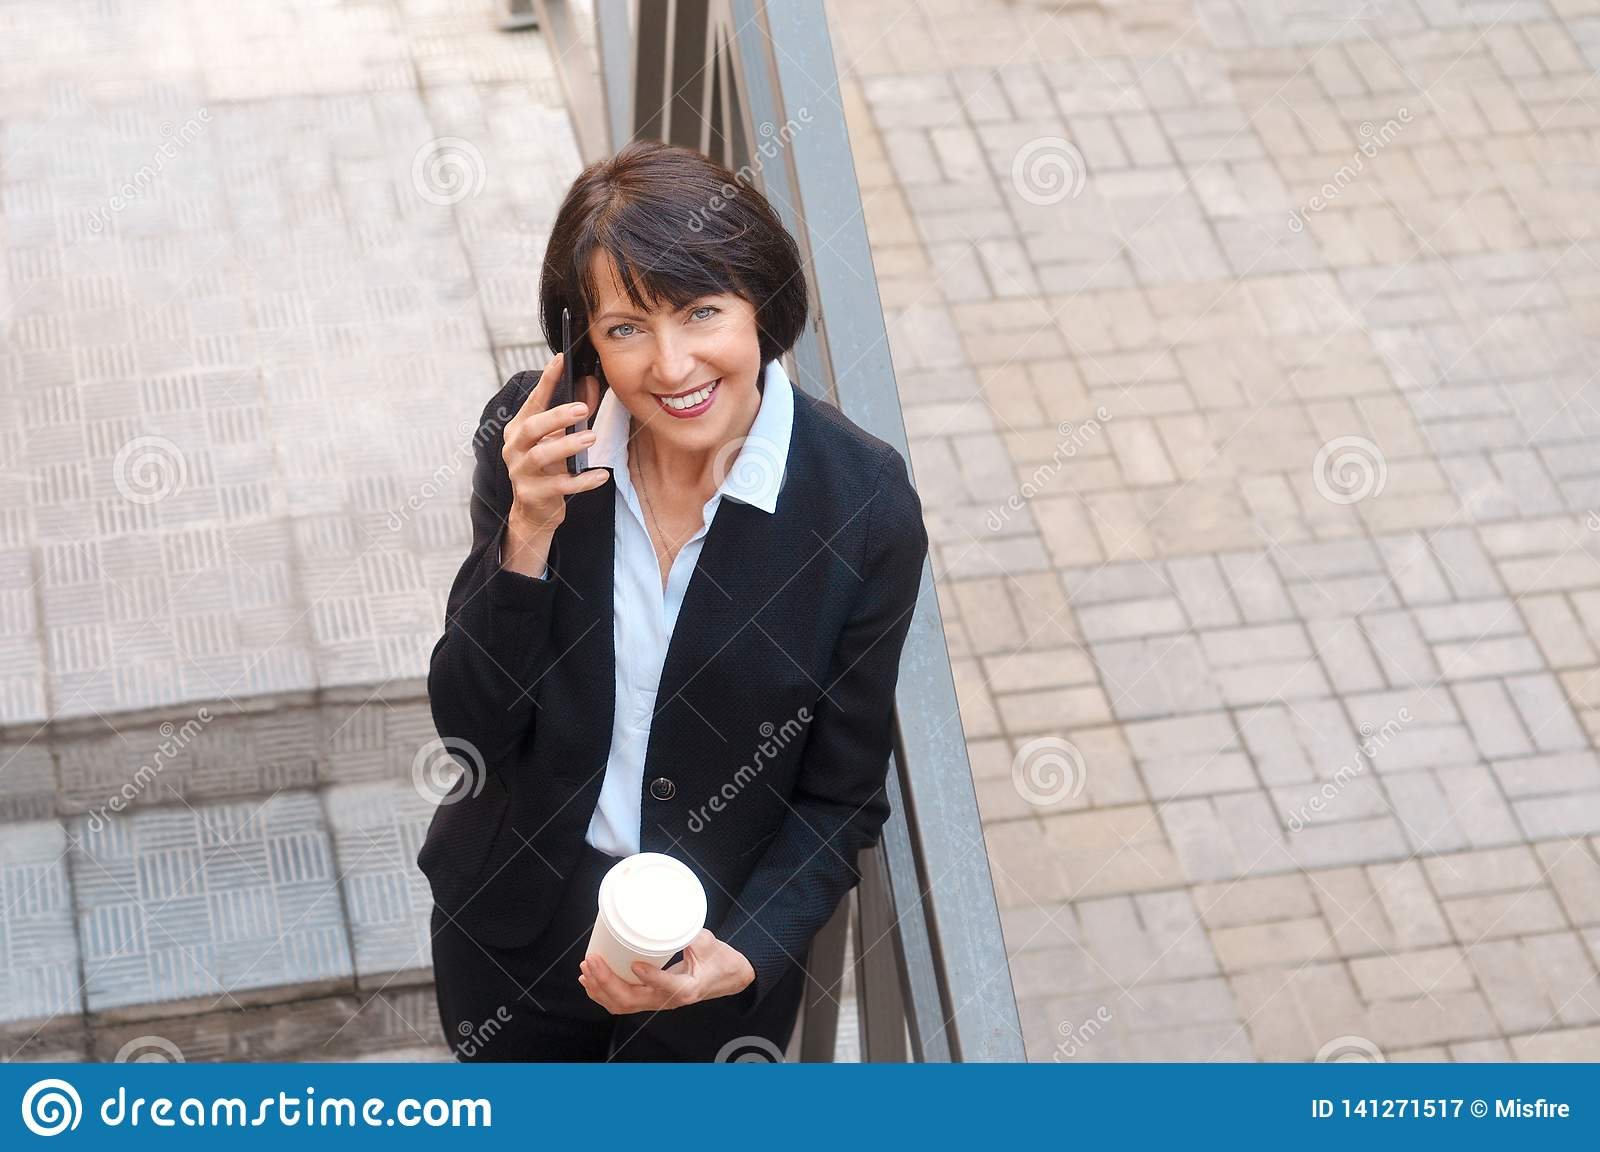phone: (552, 304, 595, 486)
talk: (502, 298, 753, 533)
